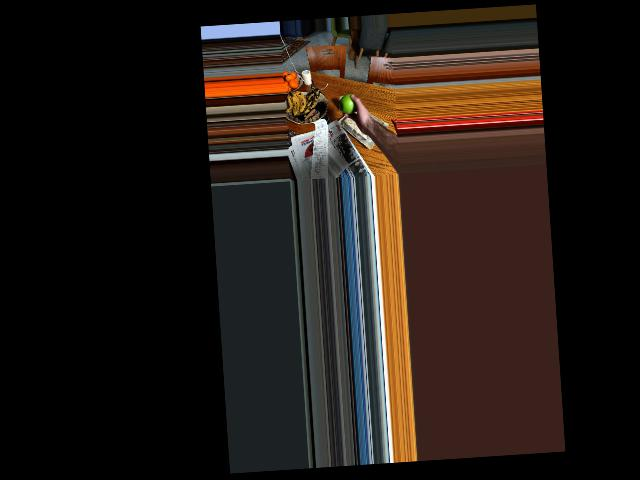apple: (338, 92, 360, 117)
